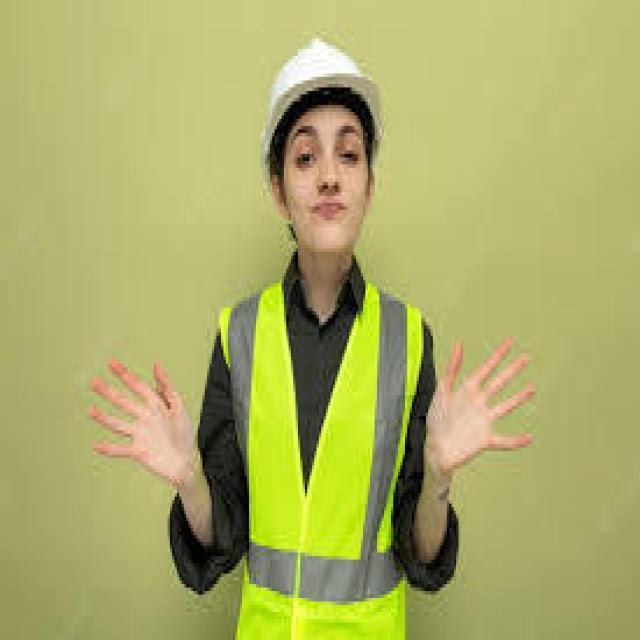safety_helmet: (215, 277, 429, 640)
